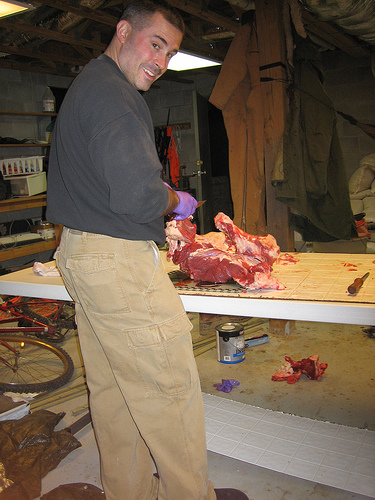without_mask: (117, 11, 180, 90)
